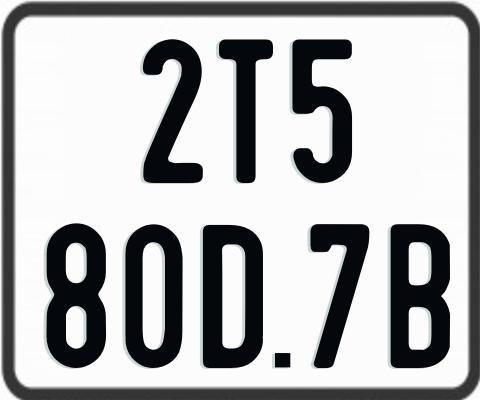0: (122, 224, 182, 371)
2: (142, 37, 203, 185)
5: (290, 39, 355, 184)
7: (308, 222, 368, 368)
8: (43, 222, 109, 368)
B: (390, 224, 450, 374)
D: (203, 224, 263, 369)
T: (216, 38, 273, 185)
